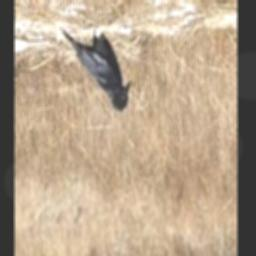Crow: (60, 26, 131, 113)
